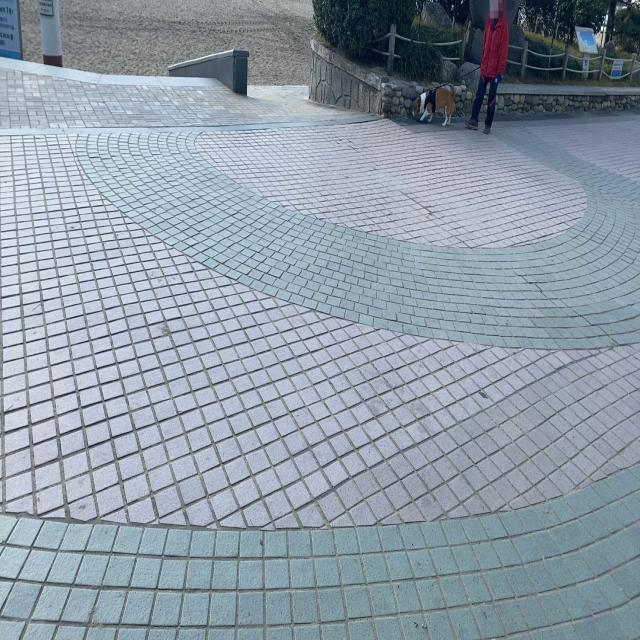Leashed_Dog: (410, 59, 486, 128)
